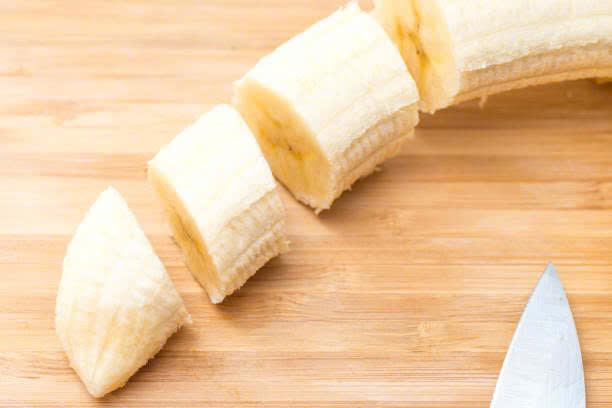banana: (241, 3, 425, 207), (35, 184, 197, 408), (134, 104, 297, 307)
